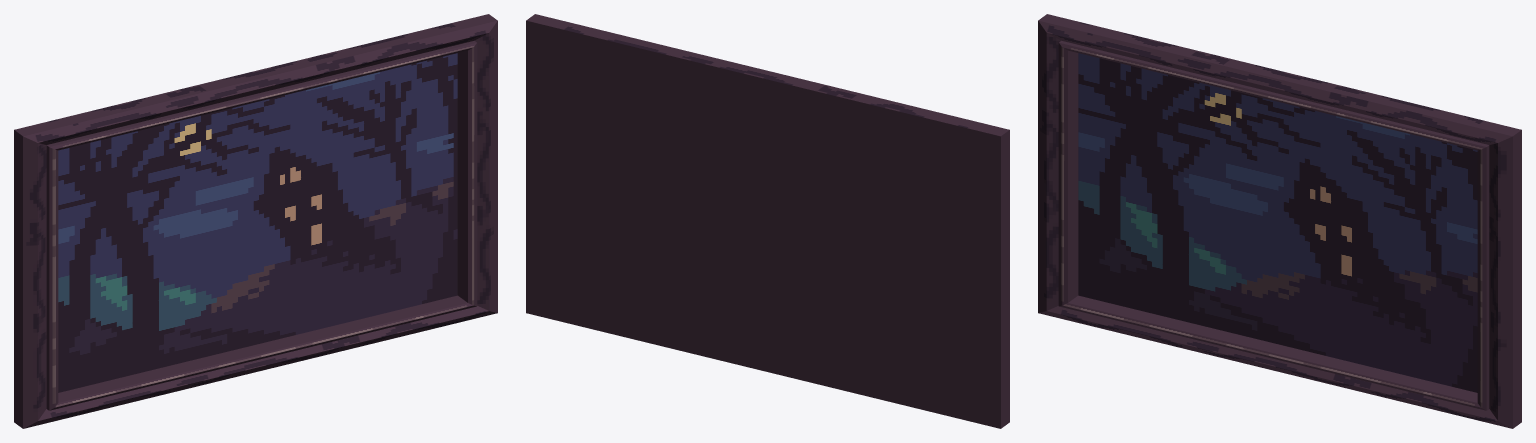
The model's file is Painting1.fbx.
3 views of the same model, side by side, from view 1: azimuth 30°, elevation 25°; view 2: azimuth 150°, elevation 25°; view 3: azimuth 330°, elevation 25° (orthographic).
Parts seen in each view (by area): view 1: Cube.103; view 2: Cube.103; view 3: Cube.103.
Boxes of the visible parts, bbox=[...] form: Cube.103: bbox=[14, 14, 497, 428]; Cube.103: bbox=[526, 14, 1009, 428]; Cube.103: bbox=[1038, 14, 1521, 428].
Bounding box in the file's own units: 154 × 90.72 × 7.15.
